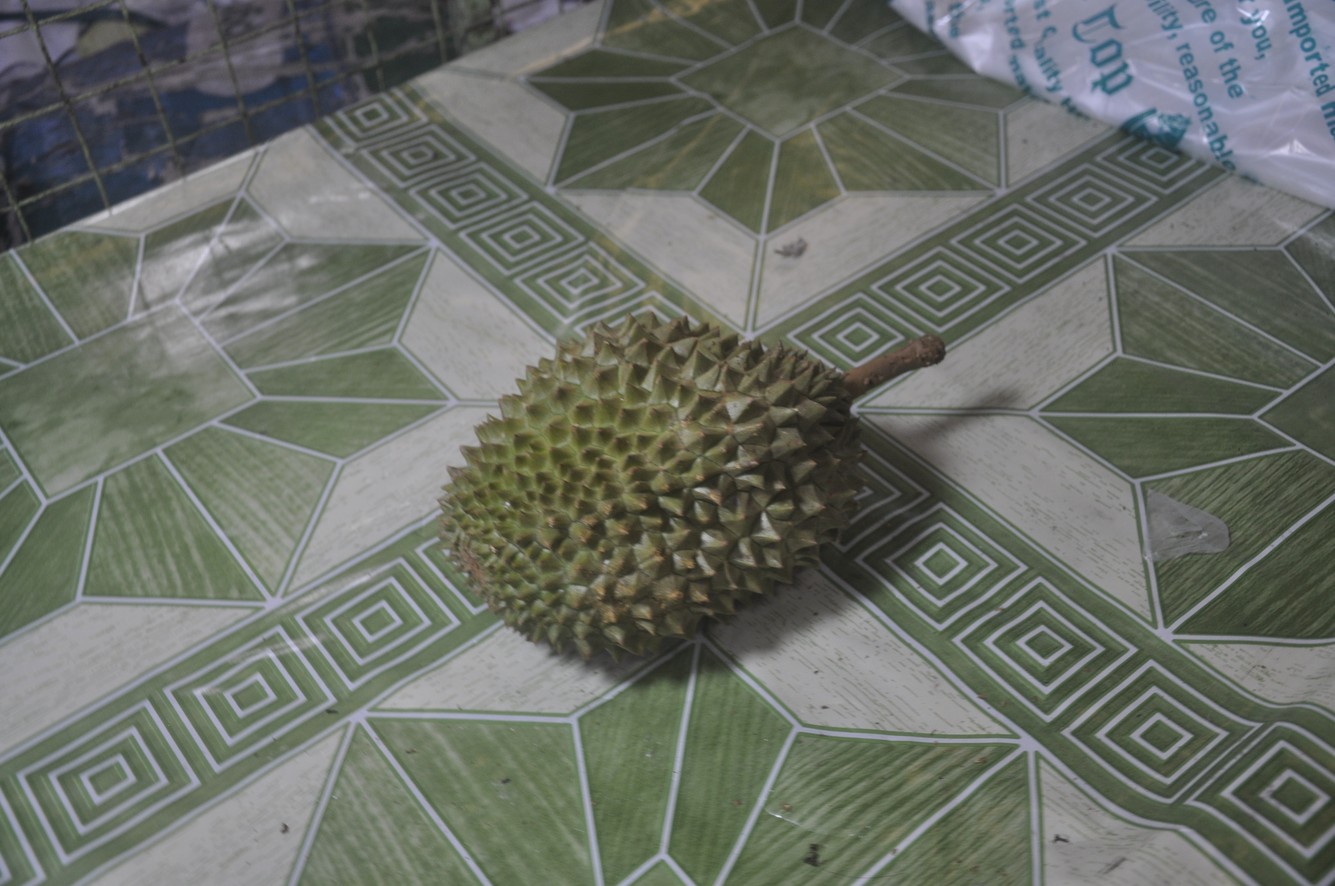mature: (439, 305, 944, 660)
